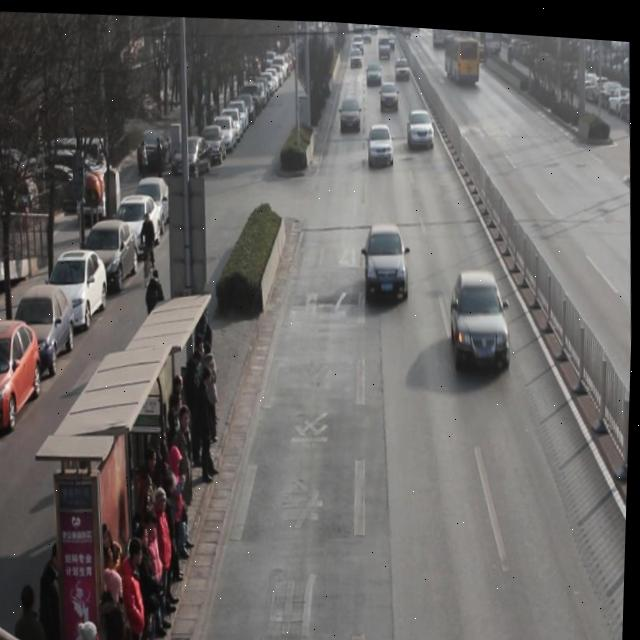car: (449, 258, 515, 368), (364, 214, 411, 297), (367, 115, 395, 162), (407, 99, 436, 143), (340, 90, 363, 128), (379, 72, 401, 108)
